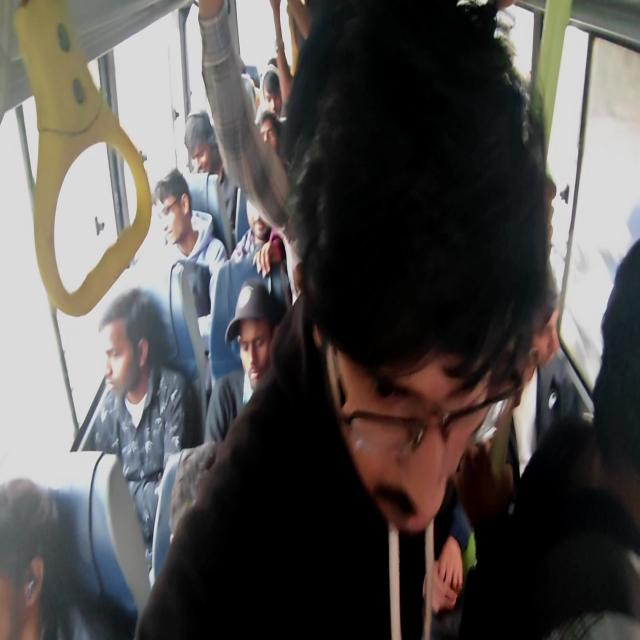person: (302, 51, 518, 528), (564, 289, 640, 503), (105, 305, 168, 416), (0, 501, 48, 640), (527, 247, 556, 395), (152, 176, 196, 256), (227, 294, 269, 372), (189, 92, 214, 182), (239, 182, 271, 240), (260, 77, 294, 125), (257, 123, 283, 169)
